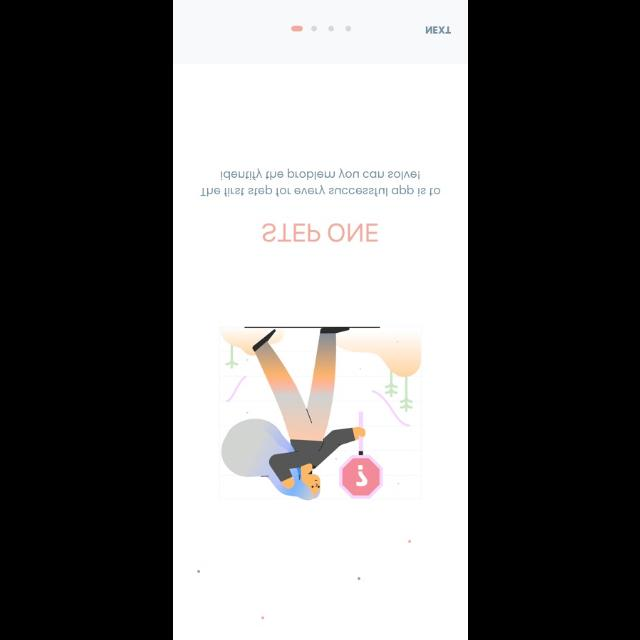image: (218, 326, 422, 500)
pageindicator: (291, 26, 351, 32)
text: (200, 168, 440, 196), (262, 223, 378, 243), (426, 26, 450, 34)
